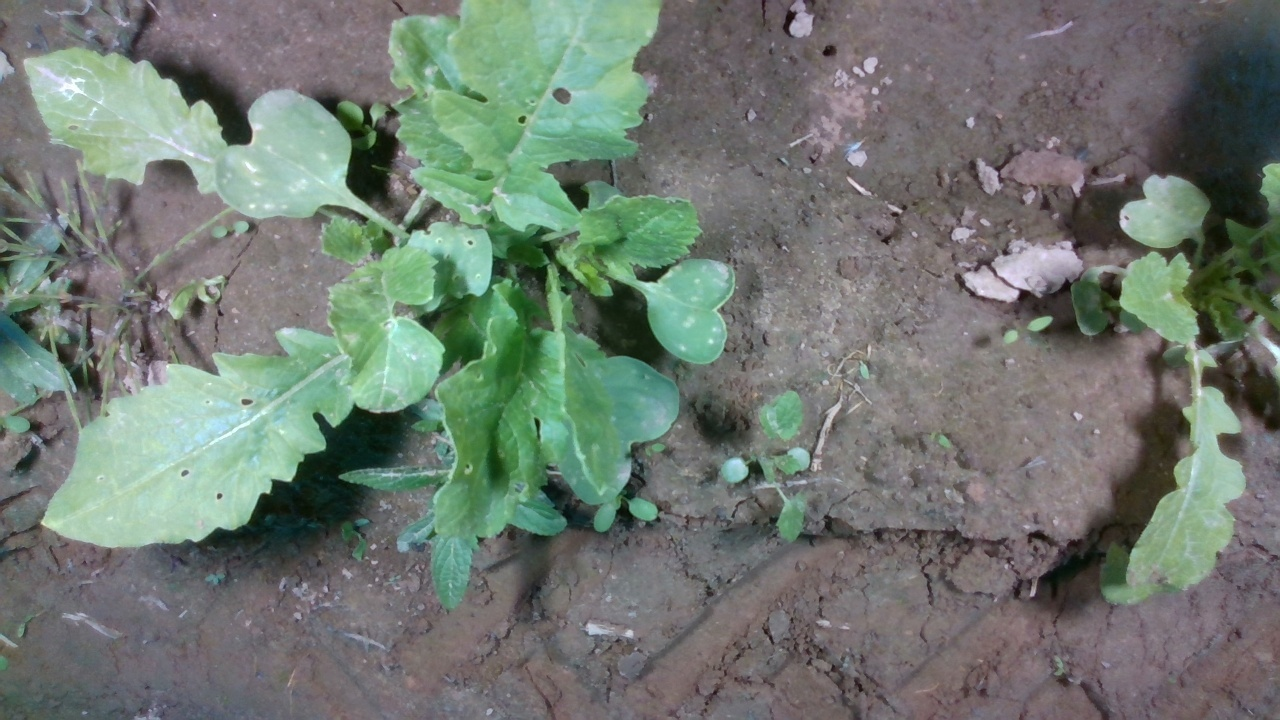weed: (999, 314, 1053, 346)
